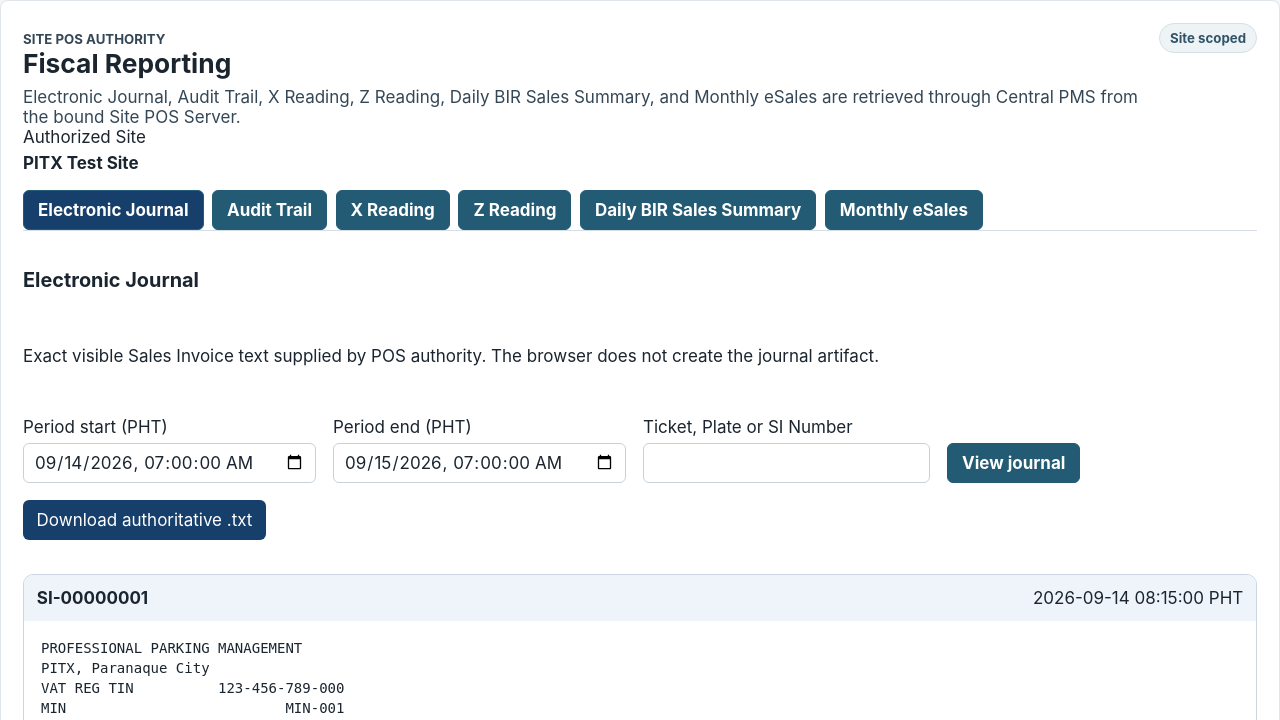
Test: Operator Console fiscal reporting › shows Z Reading business date, period boundaries, and generated time in PHT
Click the tab "Z Reading" at (515, 210), box [458,190,572,230]
(page scrolled)
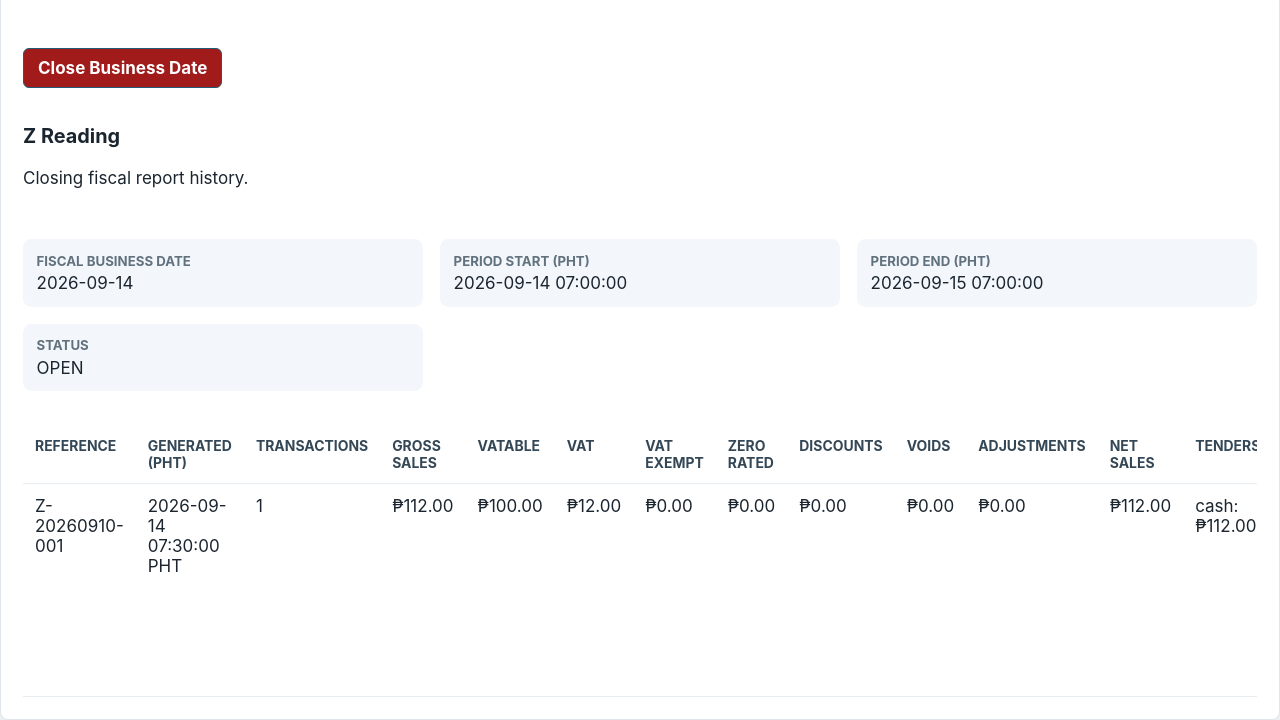
Now the text "2026-09-14" is shown, box [37,273,133,293]
Now the text "2026-09-14 07:00:00" is shown, box [454,273,627,293]
Now the text "2026-09-15 07:00:00" is shown, box [871,273,1043,293]
